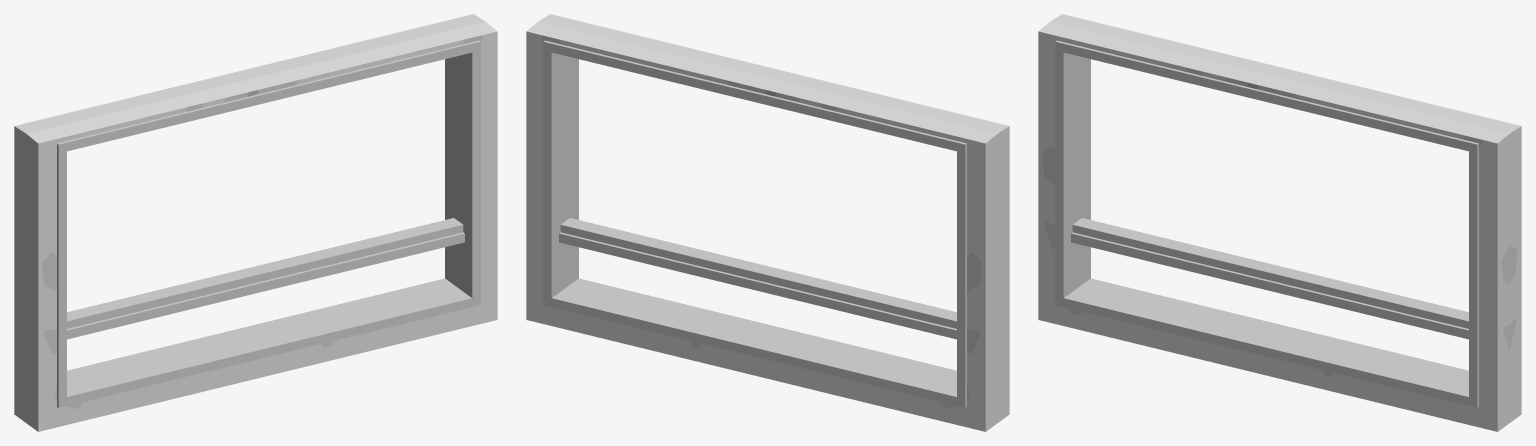
The model's file is SM_Bld_Base_Wall_Window_Half_01_264.obj.
3 renders of one model, left to right at view 1: azimuth 30°, elevation 25°; view 2: azimuth 150°, elevation 25°; view 3: azimuth 330°, elevation 25°, orthographic.
Parts seen in each view (by area): view 1: SM_Bld_Base_Wall_Window_Half_01_0, SM_Bld_Base_Wall_Window_Half_01_2, SM_Bld_Base_Wall_Window_Half_01_1; view 2: SM_Bld_Base_Wall_Window_Half_01_0, SM_Bld_Base_Wall_Window_Half_01_1, SM_Bld_Base_Wall_Window_Half_01_2; view 3: SM_Bld_Base_Wall_Window_Half_01_0, SM_Bld_Base_Wall_Window_Half_01_2, SM_Bld_Base_Wall_Window_Half_01_1.
Part boxes in pixels (x1,y1,x2,y2): SM_Bld_Base_Wall_Window_Half_01_0: (57,40,480,407); SM_Bld_Base_Wall_Window_Half_01_2: (26,21,497,431); SM_Bld_Base_Wall_Window_Half_01_1: (14,14,484,422); SM_Bld_Base_Wall_Window_Half_01_0: (543,40,966,407); SM_Bld_Base_Wall_Window_Half_01_1: (526,21,997,431); SM_Bld_Base_Wall_Window_Half_01_2: (539,14,1009,422); SM_Bld_Base_Wall_Window_Half_01_0: (1055,40,1478,407); SM_Bld_Base_Wall_Window_Half_01_2: (1038,21,1509,431); SM_Bld_Base_Wall_Window_Half_01_1: (1051,14,1521,422).
Size of the model in its own units: 2.5 by 1.51 by 0.2556.
3 materials, 3 textured.
